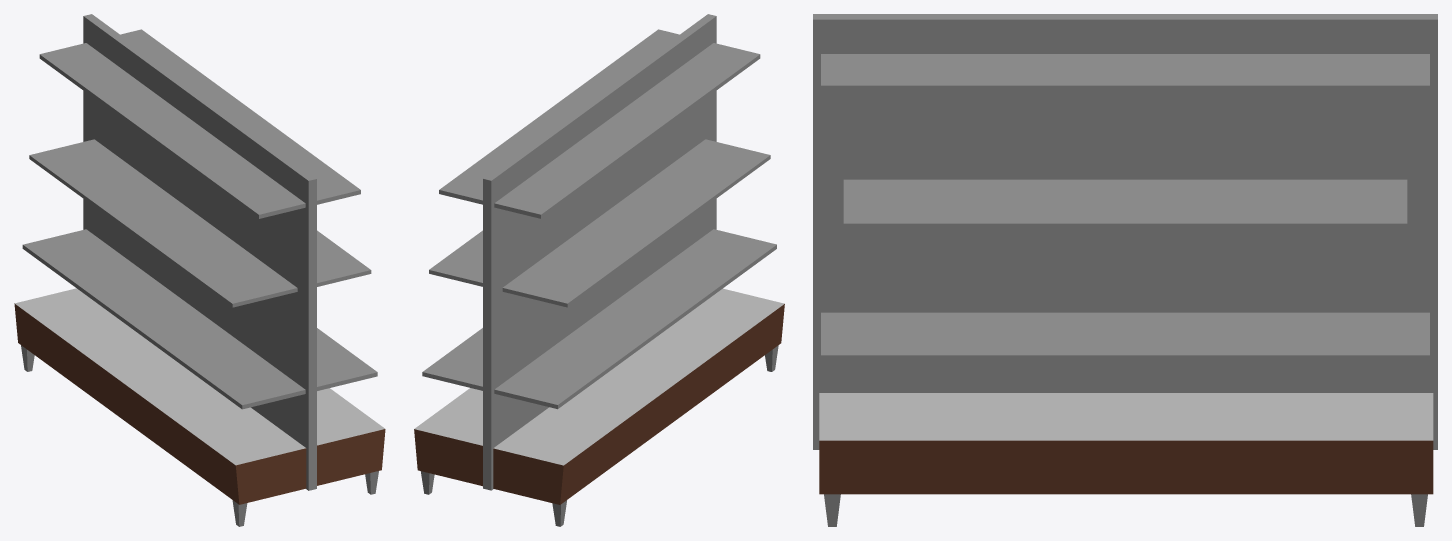
3 renders of one model, left to right at view 1: azimuth 30°, elevation 25°; view 2: azimuth 150°, elevation 25°; view 3: azimuth 270°, elevation 25°, orthographic. The views are drawn at different scales.
Visible parts, largest first — view 1: Shop_shelf_type2_01; view 2: Shop_shelf_type2_01; view 3: Shop_shelf_type2_01.
Boxes of the visible parts, x1,y1,x2,y2 form: Shop_shelf_type2_01: (14, 14, 385, 526); Shop_shelf_type2_01: (414, 14, 784, 526); Shop_shelf_type2_01: (813, 14, 1437, 526).
Bounding box in the file's own units: 111 × 236 × 288.
